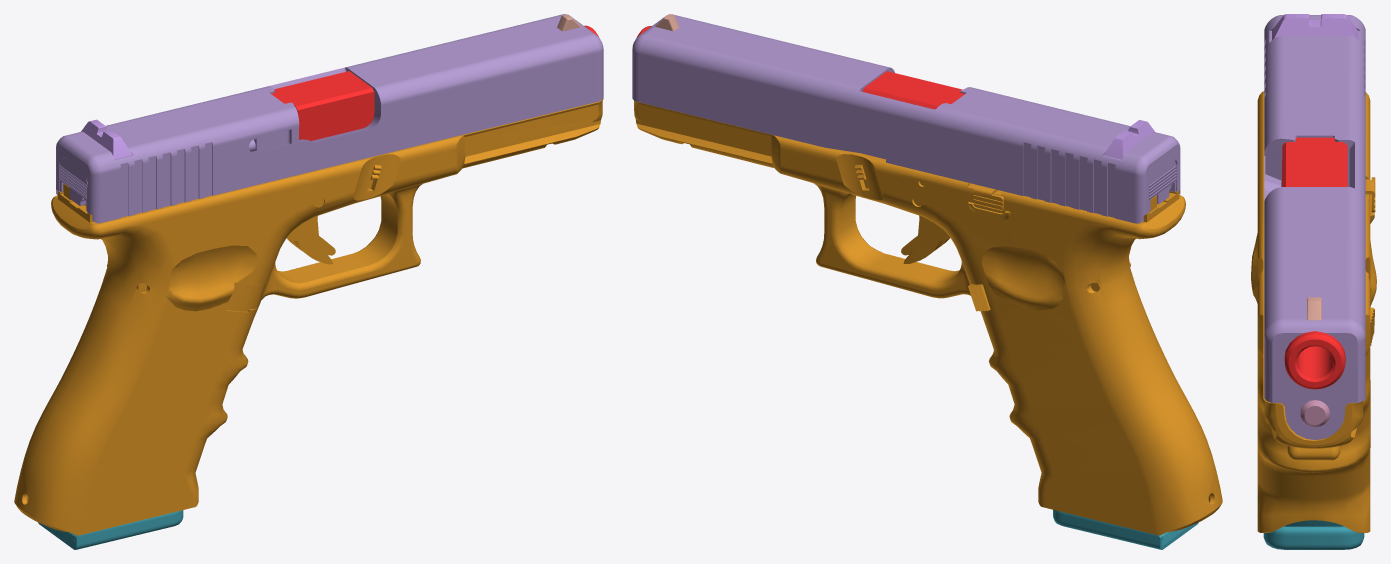
The model's file is Glock17.fbx.
3 renders of one model, left to right at view 1: azimuth 30°, elevation 25°; view 2: azimuth 150°, elevation 25°; view 3: azimuth 270°, elevation 25°, orthographic. The views are drawn at different scales.
Parts seen in each view (by area): view 1: Glock17_Frame, Glock17_Slide, GLOCK17_Barrel, Glock17_Mag, Trigger, GLOCK17_SightRear, MagRelease; view 2: Glock17_Frame, Glock17_Slide, GLOCK17_Barrel, Glock17_Mag, Trigger, GLOCK17_SightRear; view 3: Glock17_Slide, Glock17_Frame, GLOCK17_Barrel, Glock17_Mag, GLOCK17_SightRear, GLOCK17_Spring_Base, GLOCK17_SightFront, SlideRelease.
Boxes of the visible parts, left/top/right/bottom form: Glock17_Frame: left=14, top=98, right=603, bottom=535; Glock17_Slide: left=56, top=14, right=603, bottom=223; GLOCK17_Barrel: left=271, top=25, right=598, bottom=140; Glock17_Mag: left=38, top=510, right=183, bottom=549; Trigger: left=286, top=216, right=335, bottom=264; GLOCK17_SightRear: left=81, top=119, right=132, bottom=159; MagRelease: left=226, top=282, right=264, bottom=311; Glock17_Frame: left=634, top=100, right=1222, bottom=535; Glock17_Slide: left=632, top=14, right=1180, bottom=223; GLOCK17_Barrel: left=637, top=26, right=964, bottom=109; Glock17_Mag: left=1053, top=510, right=1198, bottom=549; Trigger: left=901, top=215, right=950, bottom=263; GLOCK17_SightRear: left=1104, top=120, right=1155, bottom=159; Glock17_Slide: left=1264, top=15, right=1365, bottom=439; Glock17_Frame: left=1251, top=91, right=1376, bottom=532; GLOCK17_Barrel: left=1282, top=137, right=1347, bottom=389; Glock17_Mag: left=1263, top=520, right=1364, bottom=549; GLOCK17_SightRear: left=1272, top=14, right=1358, bottom=39; GLOCK17_Spring_Base: left=1300, top=400, right=1329, bottom=427; GLOCK17_SightFront: left=1307, top=297, right=1321, bottom=320; SlideRelease: left=1365, top=177, right=1375, bottom=212.
Bounding box in the file's own units: 20.61 × 13.66 × 3.14.
